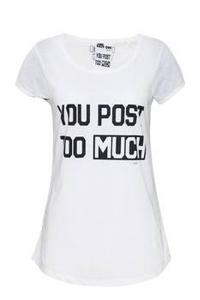C_T-shirt: (15, 31, 187, 290)
